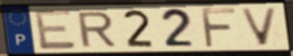2: (159, 6, 200, 50), (122, 8, 155, 48)
E: (32, 8, 79, 52)
F: (199, 6, 239, 50)
R: (75, 10, 118, 49)
V: (238, 7, 280, 48)
